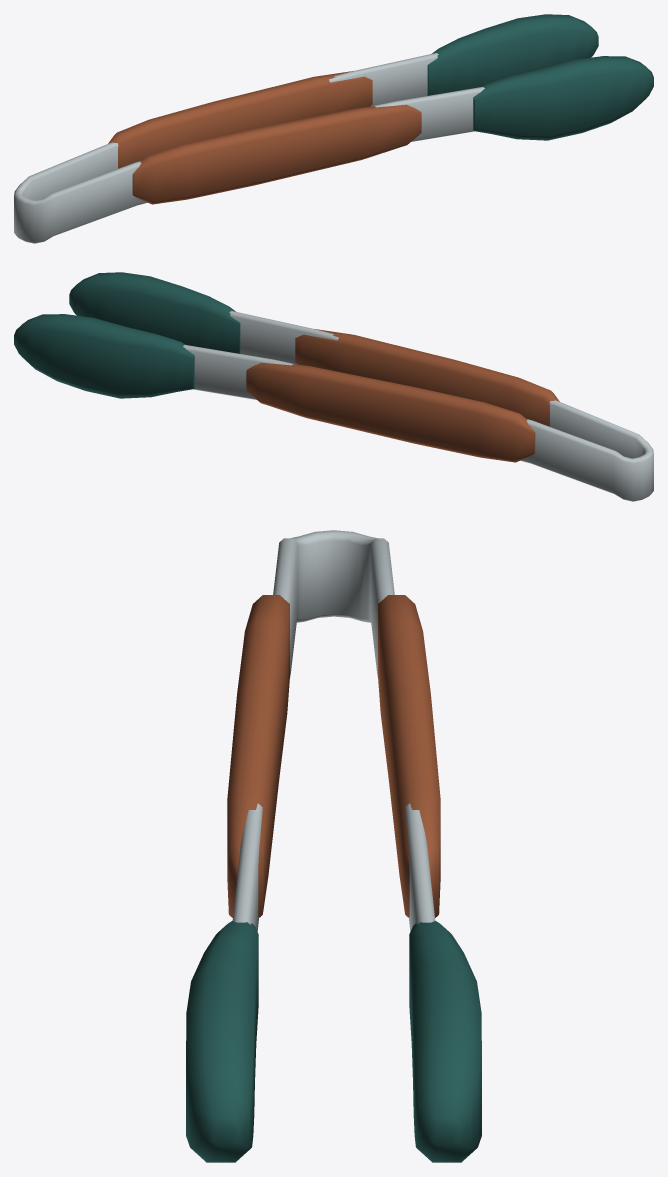
The model's file is mall-bakery-serving-tongs-lod2.glb.
The picture shows the model from 3 angles, top to bottom: view 1: azimuth 30°, elevation 25°; view 2: azimuth 150°, elevation 25°; view 3: azimuth 270°, elevation 25°; orthographic projection. The views are drawn at different scales.
Visible parts, largest first — view 1: Oiled cherry grip_LOD2, Evergreen soft pastry tips_LOD2, Brushed spring stainless_LOD2; view 2: Oiled cherry grip_LOD2, Evergreen soft pastry tips_LOD2, Brushed spring stainless_LOD2; view 3: Evergreen soft pastry tips_LOD2, Oiled cherry grip_LOD2, Brushed spring stainless_LOD2.
Boxes of the visible parts, x1=… form: Oiled cherry grip_LOD2: x1=108, y1=71, x2=421, y2=204; Evergreen soft pastry tips_LOD2: x1=427, y1=14, x2=653, y2=140; Brushed spring stainless_LOD2: x1=14, y1=53, x2=484, y2=243; Oiled cherry grip_LOD2: x1=246, y1=329, x2=559, y2=462; Evergreen soft pastry tips_LOD2: x1=14, y1=272, x2=240, y2=398; Brushed spring stainless_LOD2: x1=183, y1=311, x2=653, y2=501; Evergreen soft pastry tips_LOD2: x1=186, y1=921, x2=481, y2=1162; Oiled cherry grip_LOD2: x1=227, y1=595, x2=440, y2=917; Brushed spring stainless_LOD2: x1=232, y1=530, x2=435, y2=931.
Size of the model in its own units: 0.2144 by 0.0233 by 0.0453.
